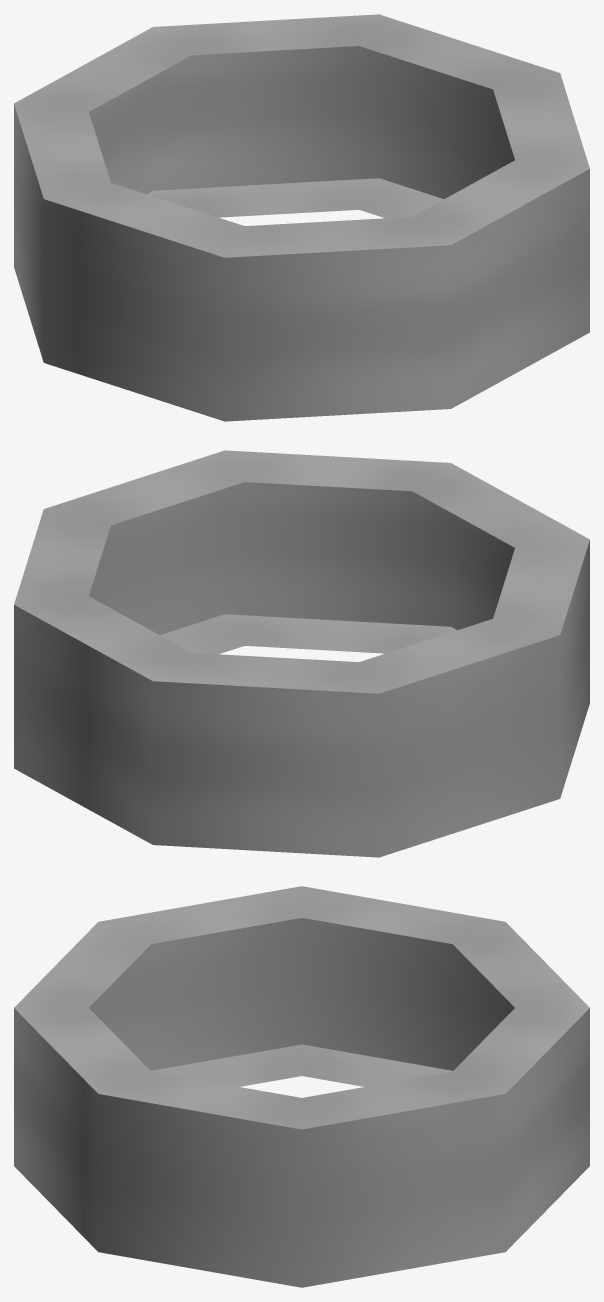
File: PipeRing.fbx
3 renders of one model, top to bottom at view 1: azimuth 30°, elevation 25°; view 2: azimuth 150°, elevation 25°; view 3: azimuth 270°, elevation 25°, orthographic. The views are drawn at different scales.
Parts seen in each view (by area): view 1: Mat_Pipe_01; view 2: Mat_Pipe_01; view 3: Mat_Pipe_01.
Boxes of the visible parts, x1,y1,x2,y2 form: Mat_Pipe_01: (14,14,589,421); Mat_Pipe_01: (14,450,589,857); Mat_Pipe_01: (14,886,589,1287).
Size of the model in its own units: 0.3771 by 0.1143 by 0.3771.
1 material, 1 textured.
